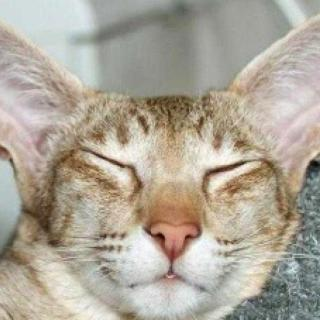cat: (3, 21, 320, 320)
nose: (142, 206, 200, 260)
